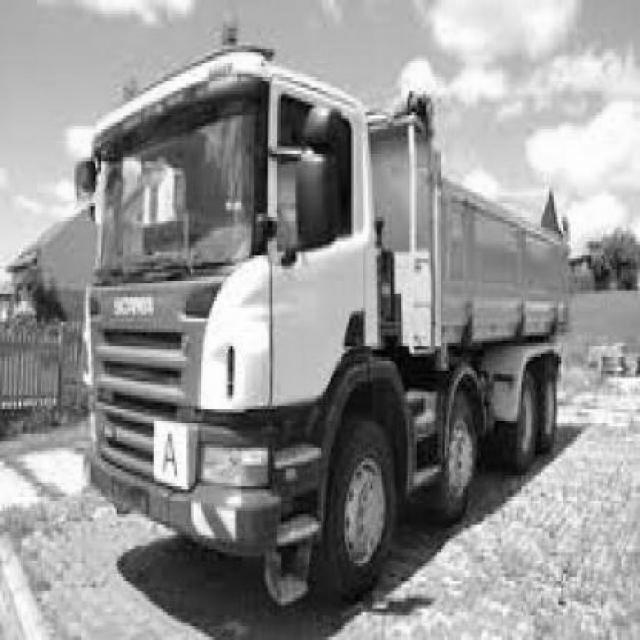Box Truck: (77, 15, 570, 611)
